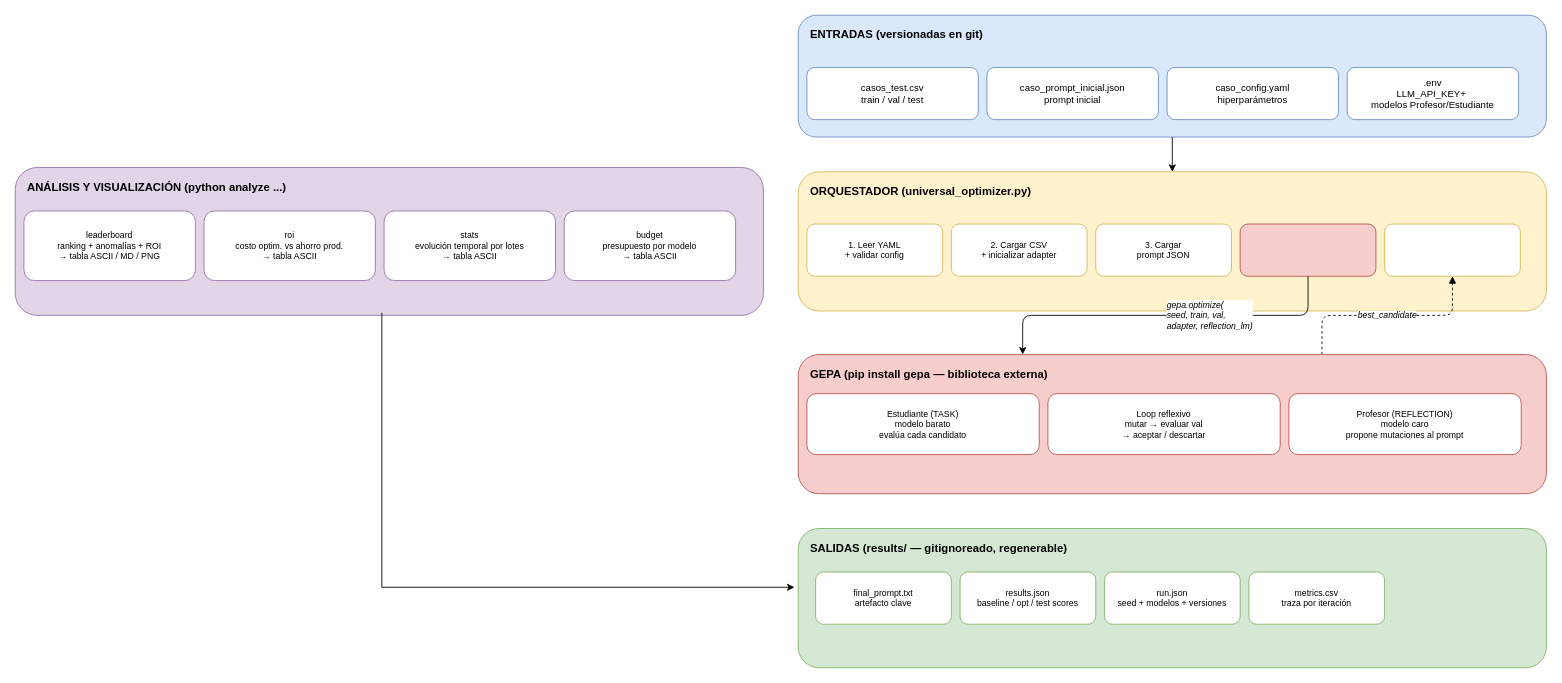
This 1562x683 diagram has some shape labels left out. The shapes that lost their labels are listed below. From the top down, each one's centre as x and y in pixels, then its label:
At (1307,249): "4. Llamar gepa.optimize()".
At (1452,249): "5. Guardar resultados + metadata + CSV log".
